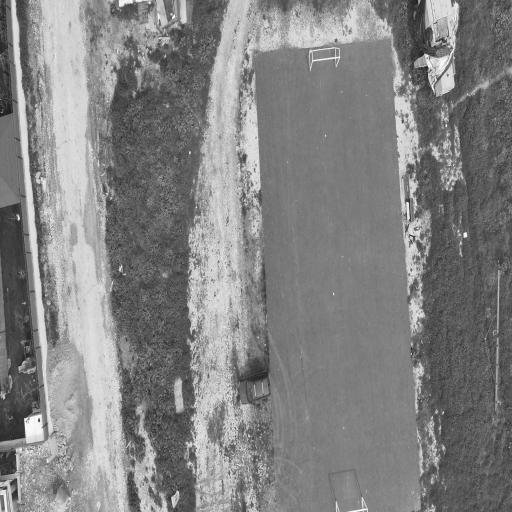car: (239, 370, 271, 403)
harvester: (413, 0, 458, 95)
